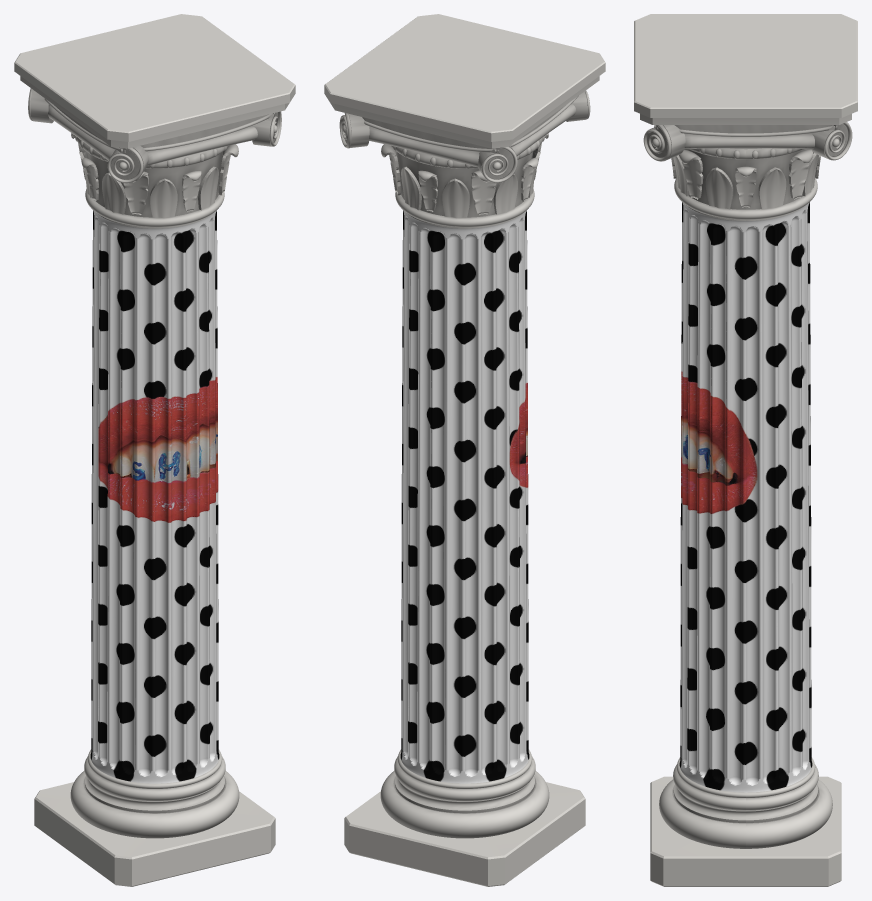
The model's file is colonna-labbra.glb.
The picture shows the model from 3 angles, left to right: view 1: azimuth 30°, elevation 25°; view 2: azimuth 150°, elevation 25°; view 3: azimuth 270°, elevation 25°; orthographic projection. The views are drawn at different scales.
Visible parts, largest first — view 1: Colonna; view 2: Colonna; view 3: Colonna.
Boxes of the visible parts, <box> form: Colonna: <box>14,14,295,886</box>; Colonna: <box>324,14,605,886</box>; Colonna: <box>634,14,857,886</box>.
Bounding box in the file's own units: 0.6968 × 2.7 × 0.6968.
Materials: 2 (1 with a texture image).
